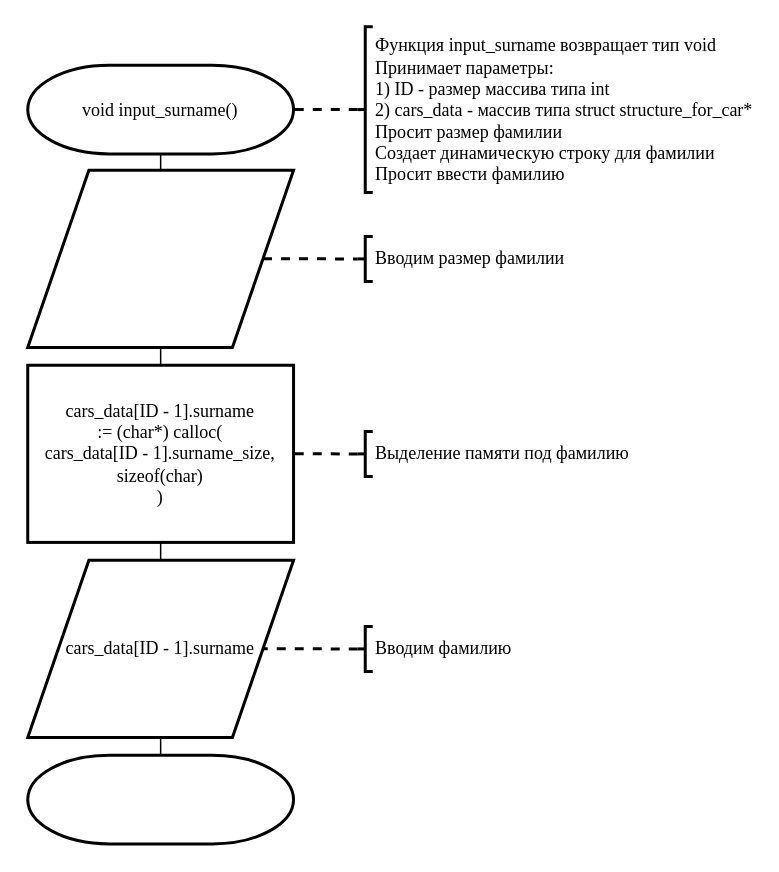
The diagram is 779 pixels wide and 872 high, and some of its shapes have lost their labels. The shapes that lost their labels are listed below. From the top down, each one's box as (x1, y1, x2, y2) in pixels, then its label:
(26, 168, 294, 348): cars_data[ID - 1] .surname_size
(26, 753, 294, 845): Конец
